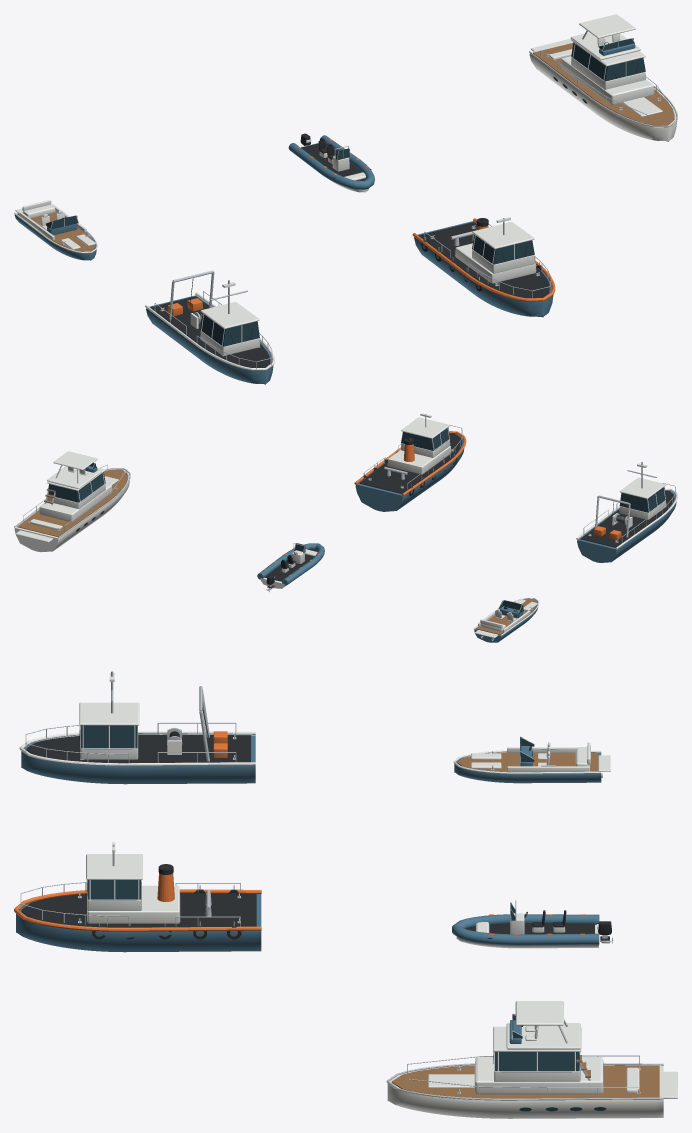
File: transport-collection-hd-sea-collection-1-49960cb8__18753.glb
3 renders of one model, top to bottom at view 1: azimuth 30°, elevation 25°; view 2: azimuth 150°, elevation 25°; view 3: azimuth 270°, elevation 25°, orthographic. The views are drawn at different scales.
Parts seen in each view (by area): view 1: 002-flybridge-yacht/0, 004-harbour-tug/3, 004-harbour-tug/1, 003-fishing-trawler/2, 004-harbour-tug/0, 003-fishing-trawler/1, 002-flybridge-yacht/1, 003-fishing-trawler/0, 000-sport-runabout/2, 002-flybridge-yacht/3, 001-rigid-inflatable/2, 003-fishing-trawler/3 (+8 smaller); view 2: 002-flybridge-yacht/0, 004-harbour-tug/3, 004-harbour-tug/1, 004-harbour-tug/0, 003-fishing-trawler/2, 002-flybridge-yacht/1, 003-fishing-trawler/1, 003-fishing-trawler/0, 000-sport-runabout/2, 001-rigid-inflatable/2, 002-flybridge-yacht/3, 004-harbour-tug/2 (+9 smaller); view 3: 002-flybridge-yacht/0, 004-harbour-tug/0, 004-harbour-tug/1, 003-fishing-trawler/0, 004-harbour-tug/3, 003-fishing-trawler/2, 003-fishing-trawler/1, 002-flybridge-yacht/1, 001-rigid-inflatable/2, 000-sport-runabout/2, 004-harbour-tug/2, 002-flybridge-yacht/2 (+9 smaller).
Boxes of the visible parts, left/top/right/bottom form: 002-flybridge-yacht/0: left=529, top=14, right=676, bottom=141; 004-harbour-tug/3: left=455, top=217, right=536, bottom=283; 004-harbour-tug/1: left=418, top=218, right=550, bottom=298; 003-fishing-trawler/2: left=145, top=282, right=274, bottom=370; 004-harbour-tug/0: left=414, top=221, right=553, bottom=317; 003-fishing-trawler/1: left=150, top=278, right=270, bottom=367; 002-flybridge-yacht/1: left=533, top=43, right=674, bottom=125; 003-fishing-trawler/0: left=146, top=295, right=273, bottom=384; 000-sport-runabout/2: left=14, top=200, right=97, bottom=253; 002-flybridge-yacht/3: left=553, top=38, right=645, bottom=103; 001-rigid-inflatable/2: left=288, top=135, right=374, bottom=189; 003-fishing-trawler/3: left=200, top=313, right=259, bottom=346; 002-flybridge-yacht/0: left=14, top=451, right=129, bottom=552; 004-harbour-tug/3: left=387, top=413, right=451, bottom=474; 004-harbour-tug/1: left=359, top=433, right=462, bottom=495; 004-harbour-tug/0: left=355, top=433, right=464, bottom=511; 003-fishing-trawler/2: left=576, top=463, right=677, bottom=549; 002-flybridge-yacht/1: left=17, top=469, right=128, bottom=536; 003-fishing-trawler/1: left=580, top=491, right=674, bottom=547; 003-fishing-trawler/0: left=577, top=490, right=676, bottom=562; 000-sport-runabout/2: left=473, top=597, right=538, bottom=638; 001-rigid-inflatable/2: left=257, top=543, right=324, bottom=585; 002-flybridge-yacht/3: left=48, top=462, right=105, bottom=531; 004-harbour-tug/2: left=354, top=431, right=466, bottom=496; 002-flybridge-yacht/0: left=387, top=1001, right=677, bottom=1118; 004-harbour-tug/0: left=16, top=894, right=261, bottom=952; 004-harbour-tug/1: left=21, top=864, right=256, bottom=939; 003-fishing-trawler/0: left=21, top=734, right=255, bottom=784; 004-harbour-tug/3: left=86, top=842, right=180, bottom=923; 003-fishing-trawler/2: left=19, top=673, right=255, bottom=766; 003-fishing-trawler/1: left=26, top=708, right=250, bottom=763; 002-flybridge-yacht/1: left=391, top=1055, right=659, bottom=1098; 001-rigid-inflatable/2: left=452, top=914, right=599, bottom=945; 000-sport-runabout/2: left=453, top=742, right=610, bottom=774; 004-harbour-tug/2: left=14, top=873, right=261, bottom=931; 002-flybridge-yacht/2: left=386, top=1014, right=663, bottom=1100.
Size of the model in its own units: 39.82 by 5.36 by 30.29.
